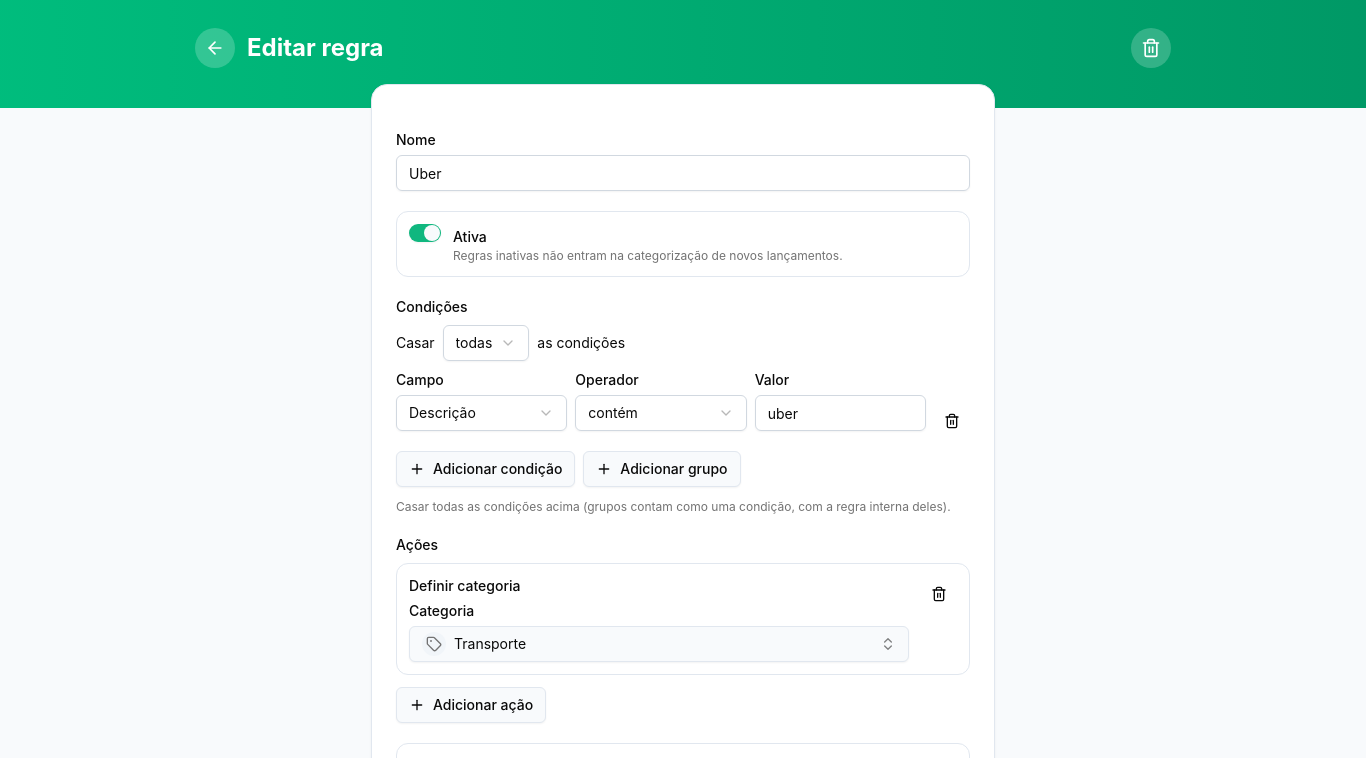
Test: RuleEditorPage › editar: depois de salvar, o formulário deixa de estar sujo e "Aplicar às existentes" habilita (C2)
Replace the text in the field labelled "Nome" with "Uber viagens" at (683, 173), box x1=396 y1=155 x2=970 y2=191
(page scrolled)
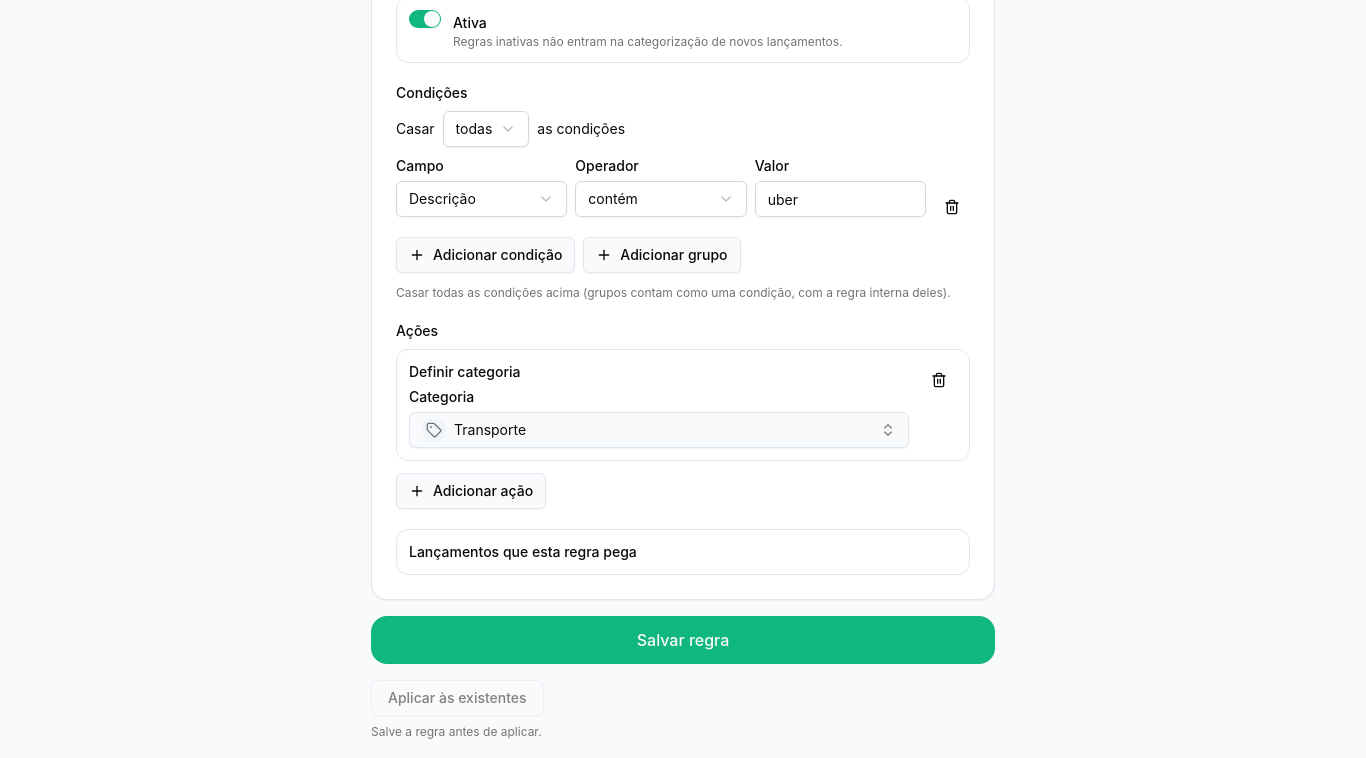
Expected: the button "Aplicar às existentes" is disabled, x1=371 y1=680 x2=544 y2=716
Expected: the text "Salve a regra antes de aplicar." is shown, x1=371 y1=724 x2=542 y2=739
Click the button "Salvar regra" at (683, 640), box x1=371 y1=616 x2=995 y2=664
(page scrolled)
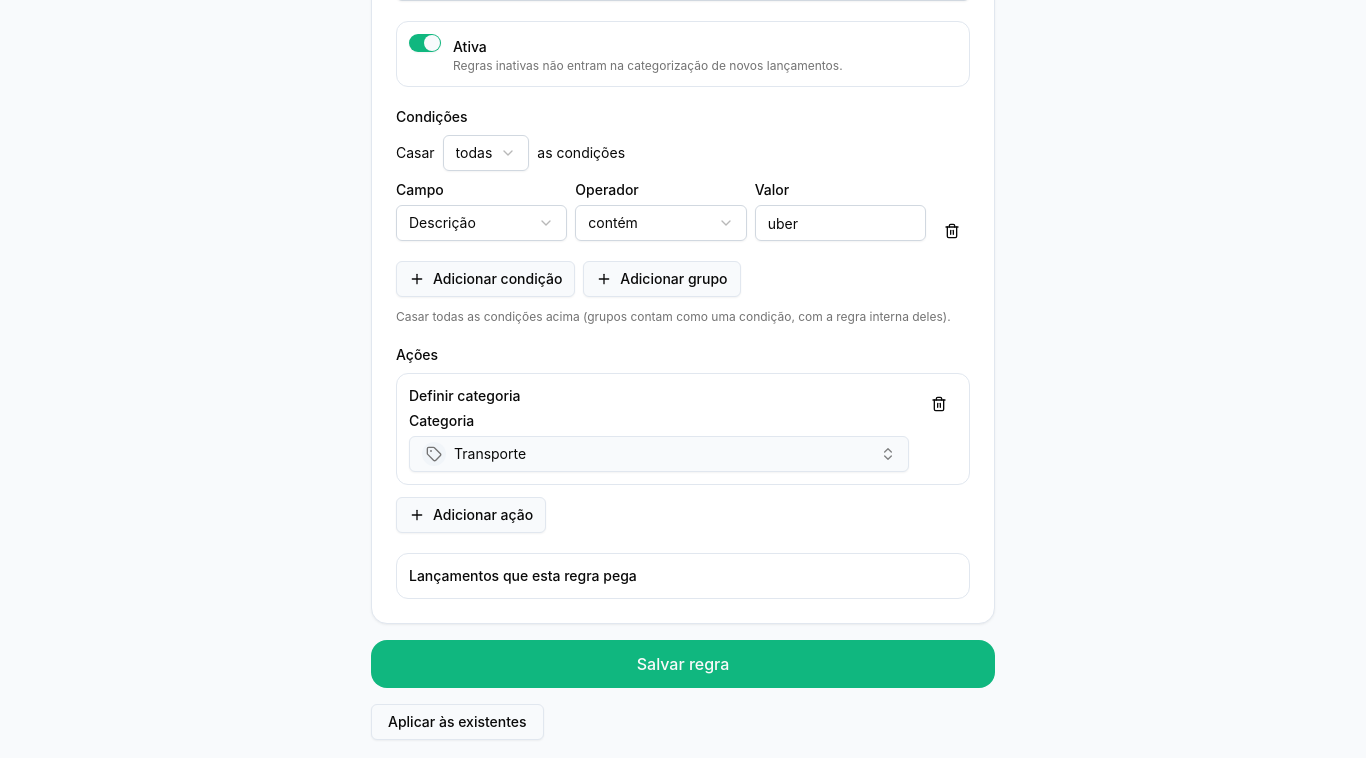
Expected: the button "Aplicar às existentes" is enabled, x1=371 y1=704 x2=544 y2=740
Expected: the text "Salve a regra antes de aplicar." is gone
